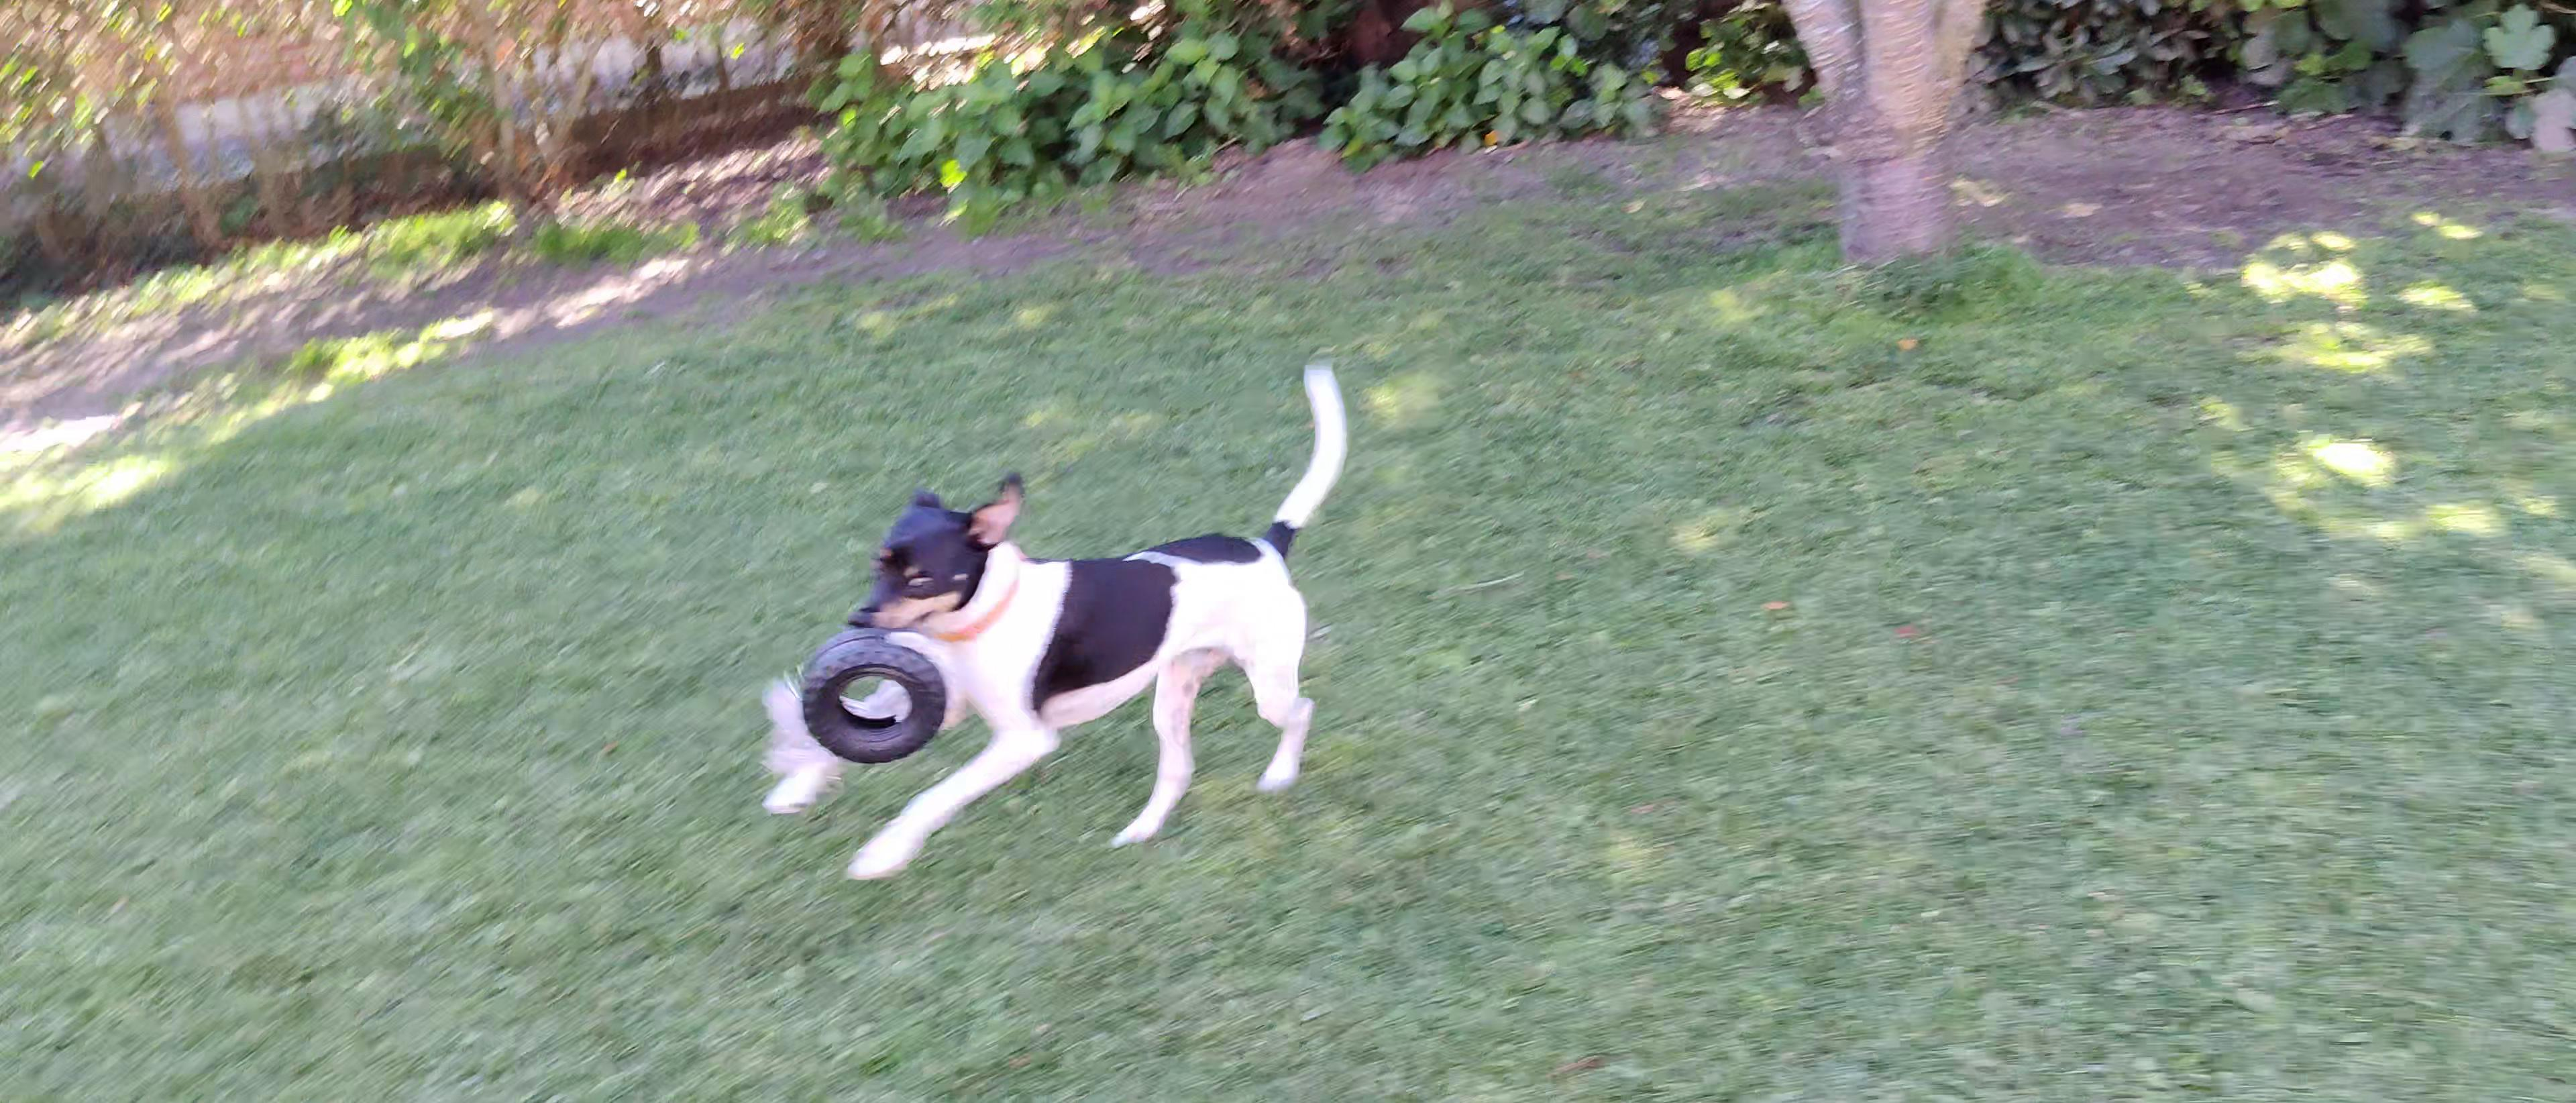Dog: (756, 358, 1350, 883)
